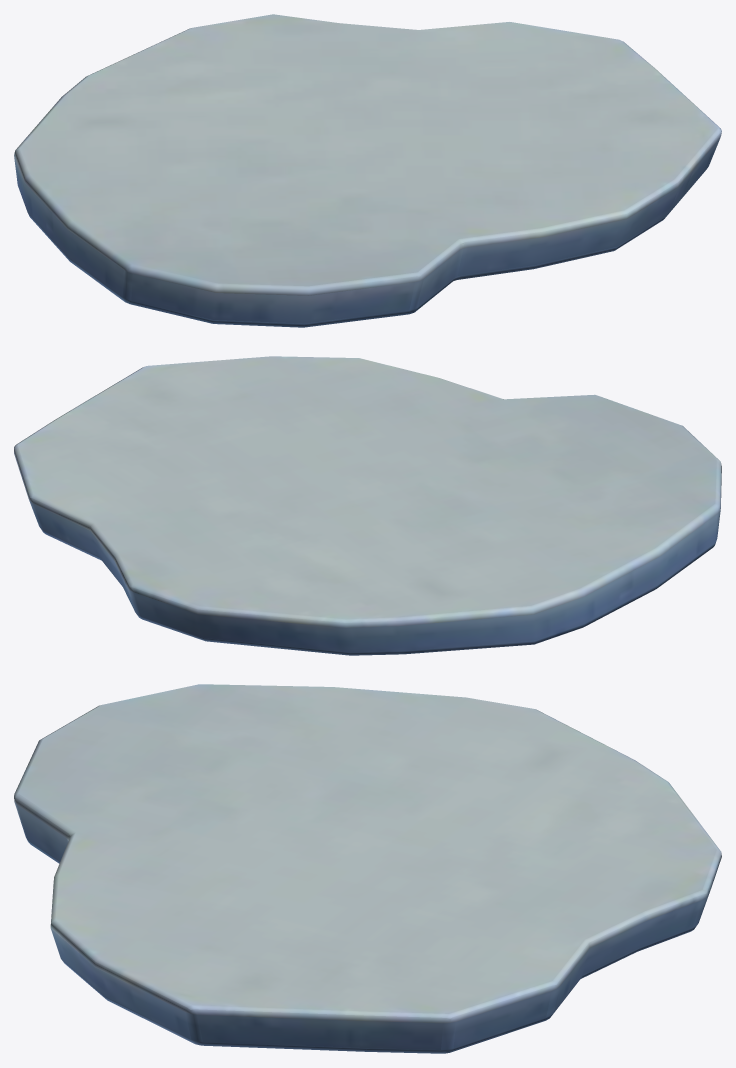
3 renders of one model, top to bottom at view 1: azimuth 30°, elevation 25°; view 2: azimuth 150°, elevation 25°; view 3: azimuth 270°, elevation 25°, orthographic. The views are drawn at different scales.
Visible parts, largest first — view 1: body0_model0_lod0_mesh0; view 2: body0_model0_lod0_mesh0; view 3: body0_model0_lod0_mesh0.
Part boxes in pixels (x1=…): body0_model0_lod0_mesh0: x1=14, y1=14, x2=721, y2=327; body0_model0_lod0_mesh0: x1=14, y1=356, x2=721, y2=655; body0_model0_lod0_mesh0: x1=14, y1=684, x2=721, y2=1053.
Size of the model in its own units: 269 by 21.47 by 244.
1 material, 1 textured.
